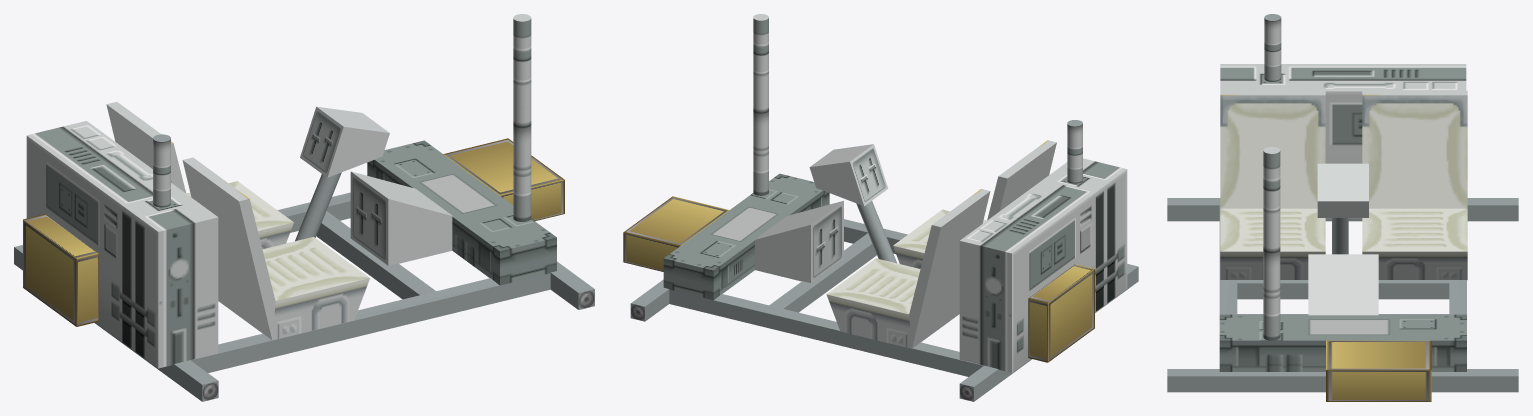
The model's file is apolloj1.obj.
3 renders of one model, left to right at view 1: azimuth 30°, elevation 25°; view 2: azimuth 150°, elevation 25°; view 3: azimuth 270°, elevation 25°, orthographic. The views are drawn at different scales.
Parts seen in each view (by area): view 1: Module_rear_ColobotMesh_.003, Seats_ColobotMesh_.001, Module_front_ColobotMesh_.004, Chassis_ColobotMesh_.002, Controls_front_ColobotMesh_.006, Controls_middle_ColobotMesh_, Pole_front_ColobotMesh_.005; view 2: Module_rear_ColobotMesh_.003, Seats_ColobotMesh_.001, Module_front_ColobotMesh_.004, Chassis_ColobotMesh_.002, Controls_front_ColobotMesh_.006, Controls_middle_ColobotMesh_, Pole_front_ColobotMesh_.005; view 3: Seats_ColobotMesh_.001, Module_front_ColobotMesh_.004, Chassis_ColobotMesh_.002, Module_rear_ColobotMesh_.003, Controls_front_ColobotMesh_.006, Controls_middle_ColobotMesh_, Pole_front_ColobotMesh_.005.
Boxes of the visible parts, x1=… form: Module_rear_ColobotMesh_.003: x1=23, y1=121, x2=218, y2=368; Seats_ColobotMesh_.001: x1=106, y1=101, x2=369, y2=340; Module_front_ColobotMesh_.004: x1=367, y1=138, x2=564, y2=285; Chassis_ColobotMesh_.002: x1=14, y1=192, x2=594, y2=401; Controls_front_ColobotMesh_.006: x1=350, y1=171, x2=452, y2=265; Controls_middle_ColobotMesh_: x1=295, y1=106, x2=389, y2=241; Pole_front_ColobotMesh_.005: x1=513, y1=14, x2=531, y2=221; Module_rear_ColobotMesh_.003: x1=959, y1=120, x2=1127, y2=372; Seats_ColobotMesh_.001: x1=826, y1=140, x2=1056, y2=348; Module_front_ColobotMesh_.004: x1=623, y1=173, x2=829, y2=300; Chassis_ColobotMesh_.002: x1=630, y1=219, x2=1138, y2=401; Controls_front_ColobotMesh_.006: x1=754, y1=200, x2=843, y2=282; Controls_middle_ColobotMesh_: x1=809, y1=144, x2=896, y2=263; Pole_front_ColobotMesh_.005: x1=753, y1=14, x2=768, y2=195; Seats_ColobotMesh_.001: x1=1220, y1=90, x2=1467, y2=280; Module_front_ColobotMesh_.004: x1=1219, y1=314, x2=1466, y2=401; Chassis_ColobotMesh_.002: x1=1167, y1=198, x2=1518, y2=392; Module_rear_ColobotMesh_.003: x1=1220, y1=14, x2=1466, y2=218; Controls_front_ColobotMesh_.006: x1=1308, y1=254, x2=1378, y2=315; Controls_middle_ColobotMesh_: x1=1317, y1=163, x2=1368, y2=254; Pole_front_ColobotMesh_.005: x1=1263, y1=147, x2=1280, y2=340.
Size of the model in its own units: 14.88 by 7.36 by 10.
